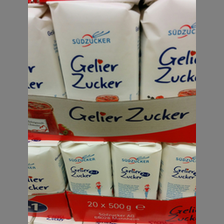sugar: (47, 1, 140, 102), (139, 2, 196, 101), (59, 142, 113, 195), (113, 142, 160, 198), (158, 144, 197, 199)
